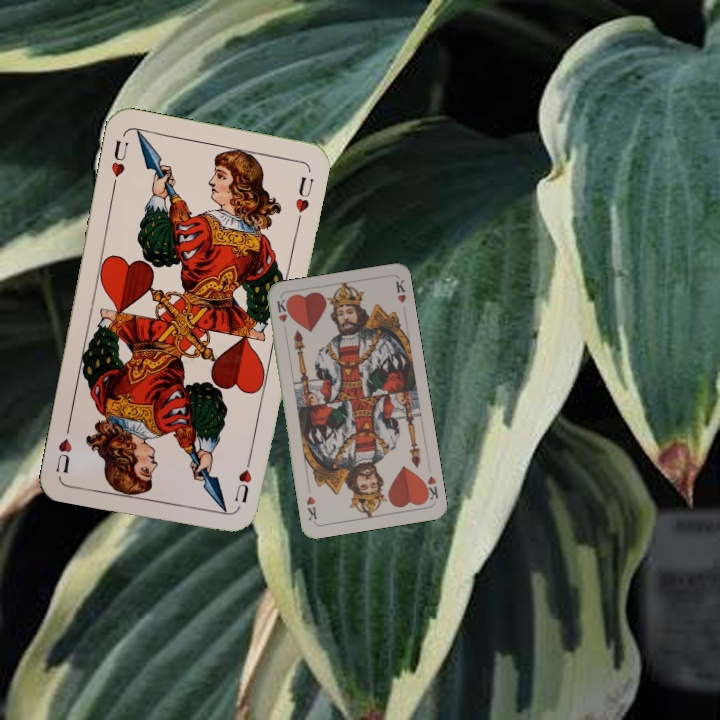HK: (419, 472, 441, 503), (273, 295, 290, 325)
HU: (107, 136, 131, 190), (231, 451, 255, 505)
